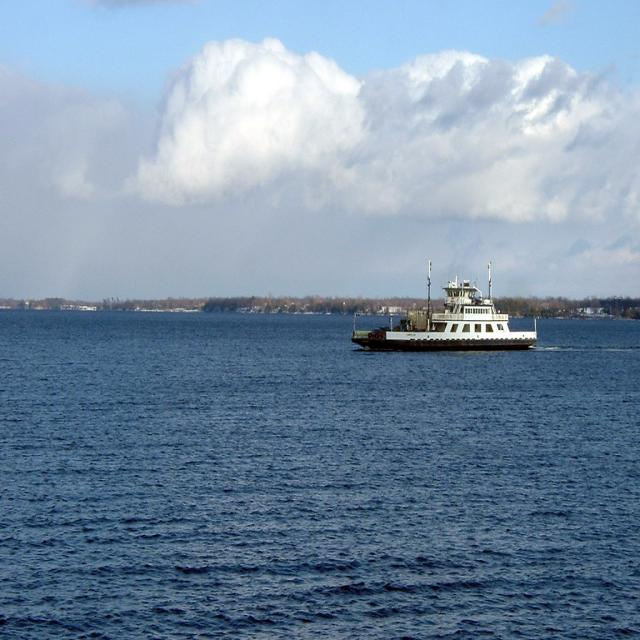fishing boat: (333, 268, 540, 372)
